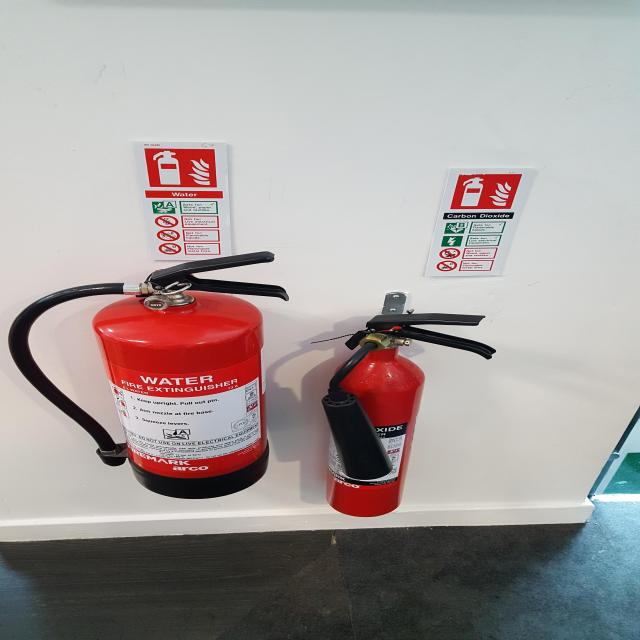fire_extinguisher: (0, 248, 301, 502), (312, 313, 504, 519)
